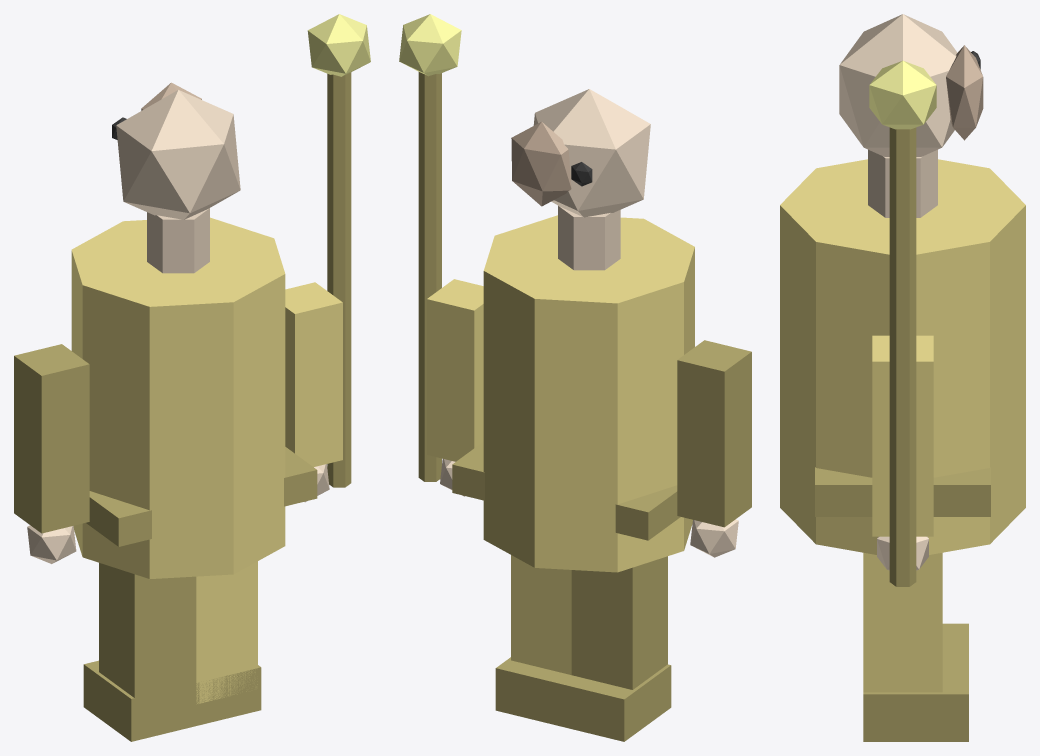
File: cleric.glb
3 views of the same model, side by side, from view 1: azimuth 30°, elevation 25°; view 2: azimuth 150°, elevation 25°; view 3: azimuth 270°, elevation 25° (orthographic). The views are drawn at different scales.
Visible parts, largest first — view 1: cleric; view 2: cleric; view 3: cleric.
Boxes of the visible parts, bbox=[...] form: cleric: bbox=[14, 14, 370, 741]; cleric: bbox=[399, 14, 751, 741]; cleric: bbox=[780, 14, 1025, 741].
Size of the model in its own units: 0.9905 by 1.84 by 0.56.
